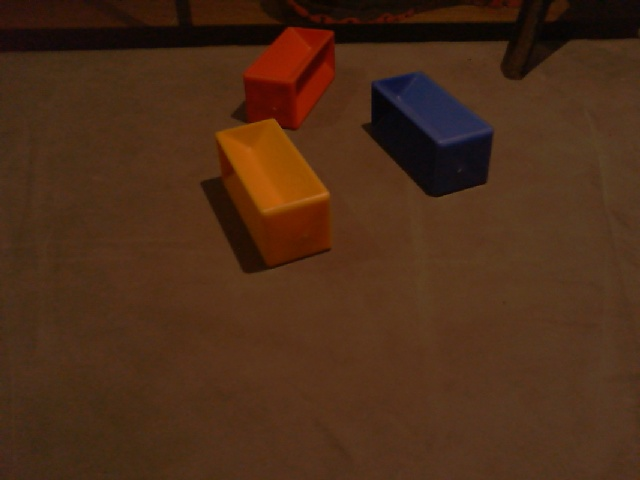BlueSample: (369, 70, 494, 197)
RedSample: (238, 20, 338, 134)
YellowSample: (214, 116, 334, 268)
